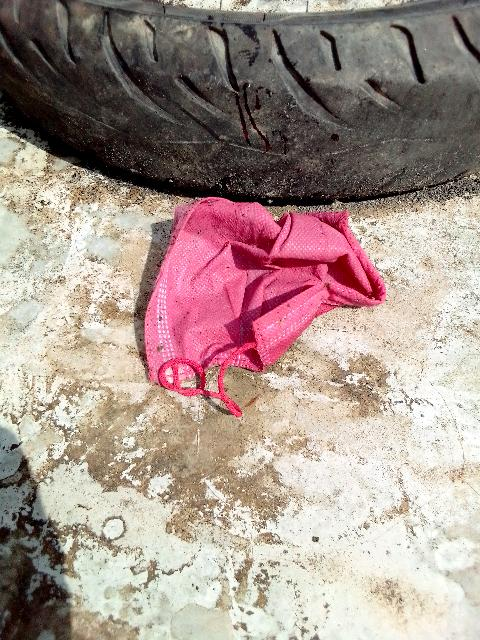mask: (151, 191, 370, 399)
